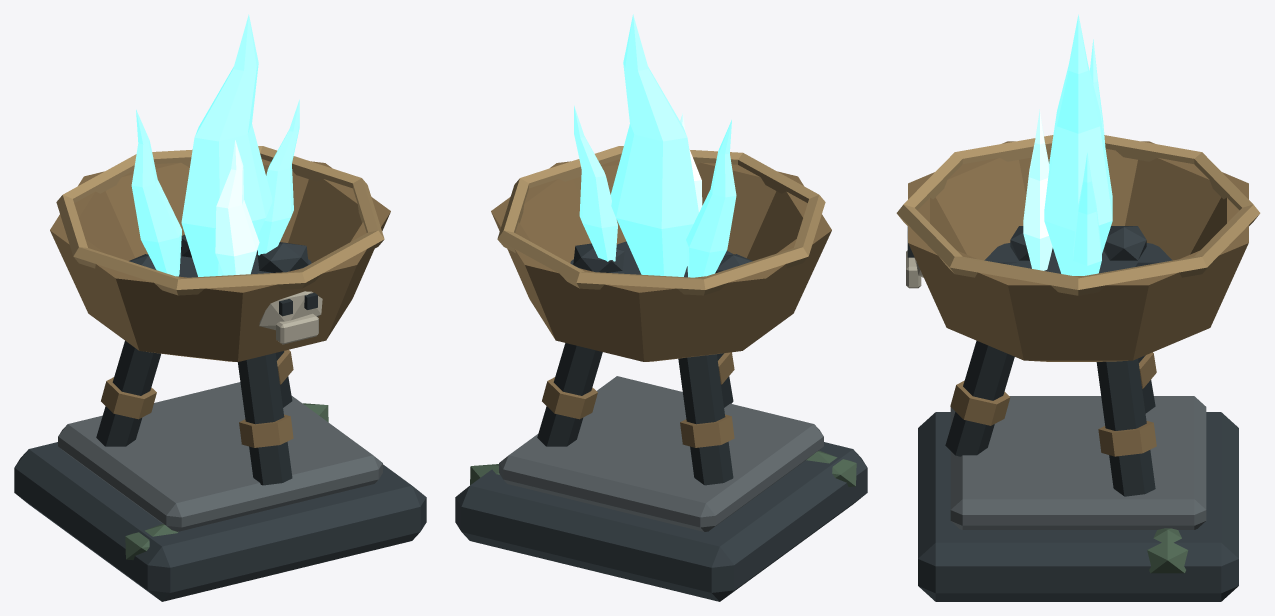
File: warden_soul_brazier.glb
3 renders of one model, left to right at view 1: azimuth 30°, elevation 25°; view 2: azimuth 150°, elevation 25°; view 3: azimuth 270°, elevation 25°, orthographic. The views are drawn at different scales.
Visible parts, largest first — view 1: warden_soul_brazier; view 2: warden_soul_brazier; view 3: warden_soul_brazier.
Boxes of the visible parts, x1=… form: warden_soul_brazier: x1=14, y1=14, x2=426, y2=601; warden_soul_brazier: x1=455, y1=14, x2=867, y2=601; warden_soul_brazier: x1=896, y1=14, x2=1260, y2=601.
Bounding box in the file's own units: 0.6165 × 0.997 × 0.612.
